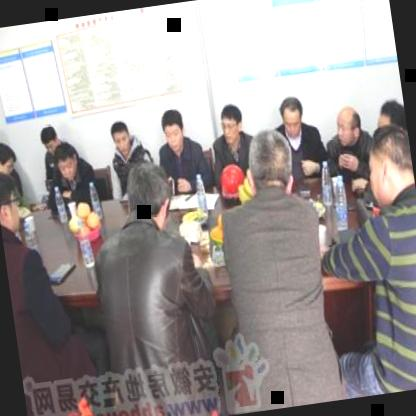head: (117, 154, 181, 230), (359, 123, 416, 207), (242, 123, 300, 195), (372, 94, 410, 150), (0, 165, 28, 241), (328, 100, 366, 146), (157, 105, 191, 153), (215, 98, 248, 146), (54, 138, 86, 184), (274, 93, 308, 136), (105, 115, 136, 160), (0, 137, 19, 189), (37, 121, 61, 160)
